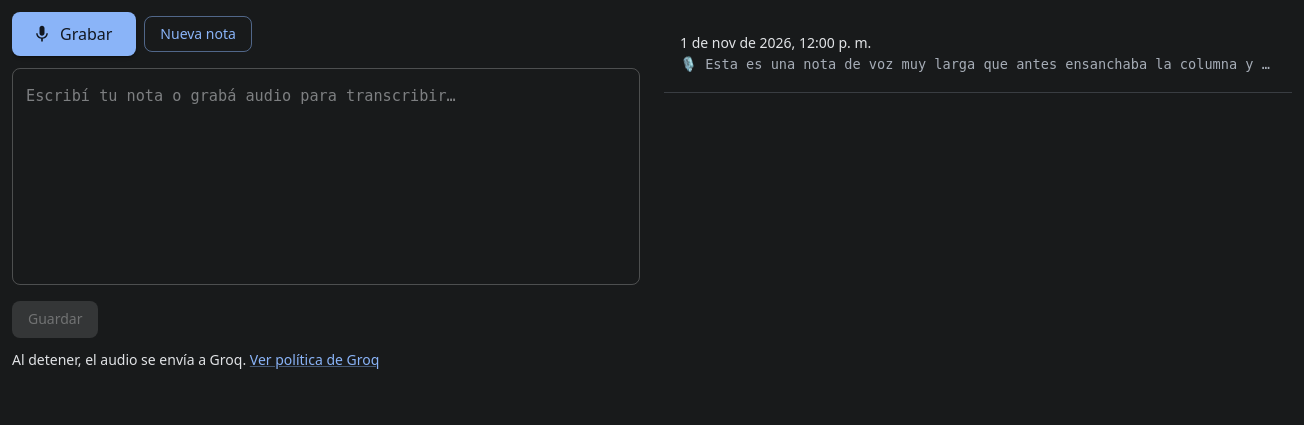
Test: Señales de grabación (UI-08) › con silencio sostenido avisa con role="status" sin detener la grabación
Click the button "Grabar".
click(74, 34)  # box [12,12,136,56]
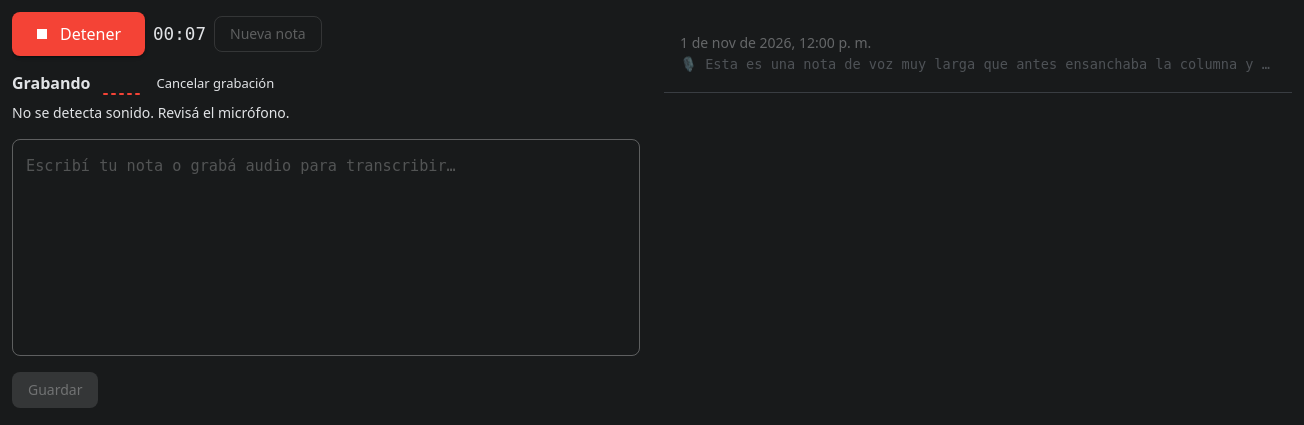
Expected: the button with aria-label "Detener y transcribir" is enabled, [12,12,145,56]
Expected: the text "No se detecta sonido. Revisá el micrófono." is shown, [12,103,290,122]
